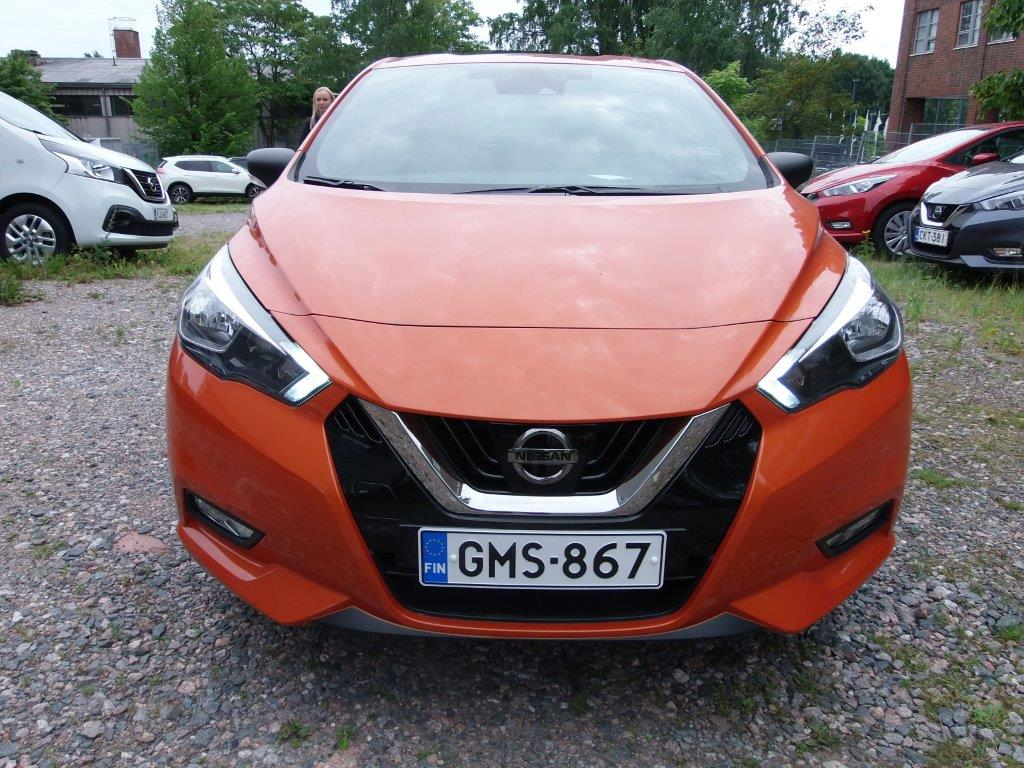license: (418, 531, 661, 589)
